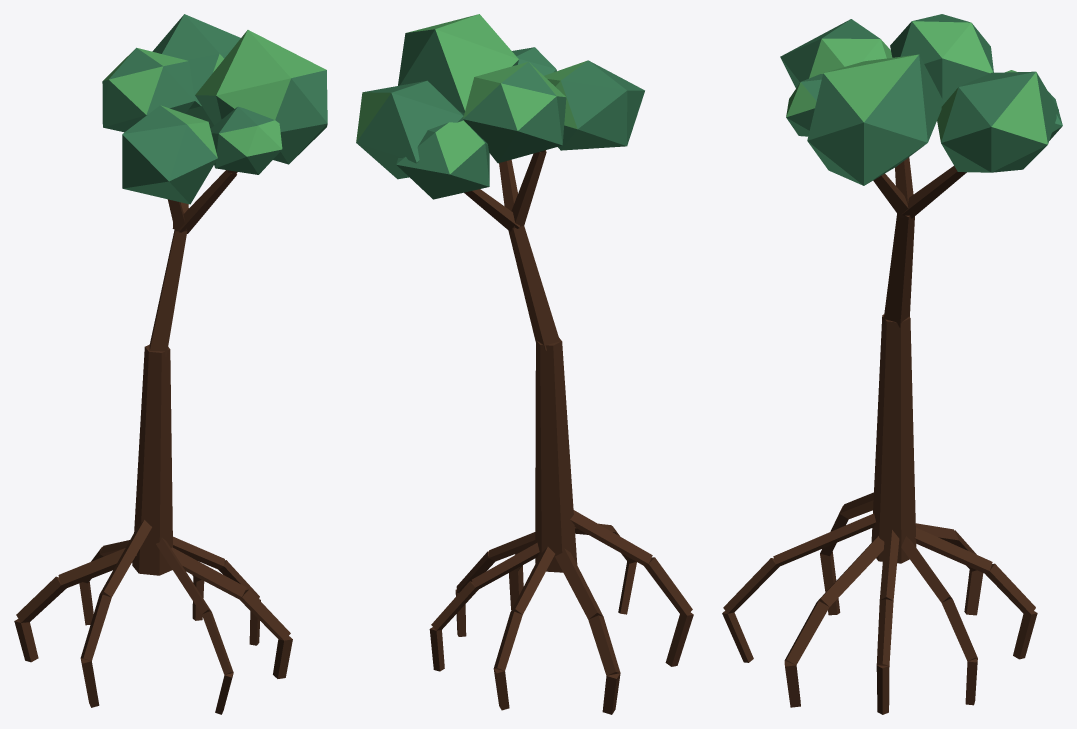
File: mangrove_tree.glb
3 renders of one model, left to right at view 1: azimuth 30°, elevation 25°; view 2: azimuth 150°, elevation 25°; view 3: azimuth 270°, elevation 25°, orthographic. The views are drawn at different scales.
Parts seen in each view (by area): view 1: mangrove_tree.001; view 2: mangrove_tree.001; view 3: mangrove_tree.001.
Boxes of the visible parts, bbox=[...] form: mangrove_tree.001: bbox=[14, 14, 327, 714]; mangrove_tree.001: bbox=[356, 14, 693, 714]; mangrove_tree.001: bbox=[722, 14, 1062, 714].
Bounding box in the file's own units: 2.1 × 4.6 × 2.14.
